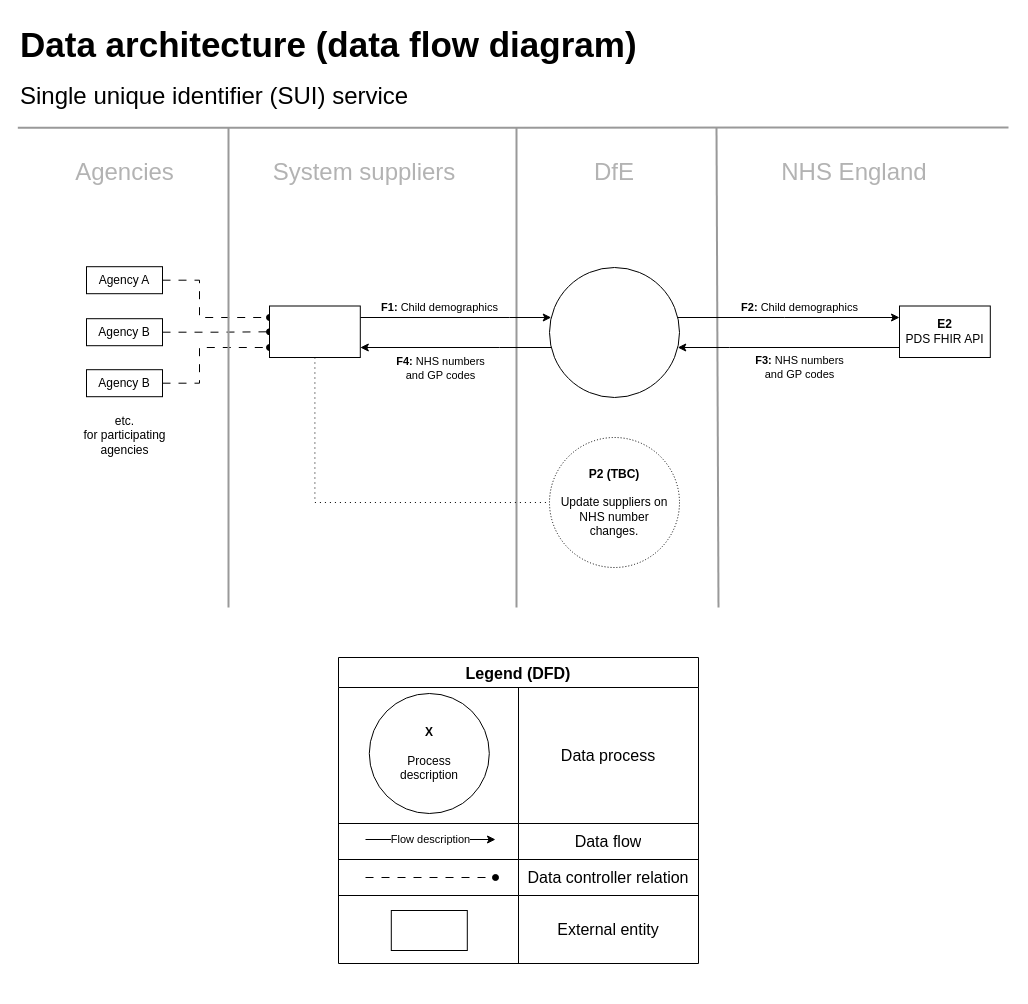
The diagram is 1028 pixels wide and 1004 high, and some of its shapes have lost their labels. The shapes that lost their labels are listed below. From the top down, each one's centre as x and y in pixels, then its label:
At point 314,331: "E1 Supplier system".
At point 614,332: "P1 Match demographics to an NHS number".
At point 428,930: "Entity name".
